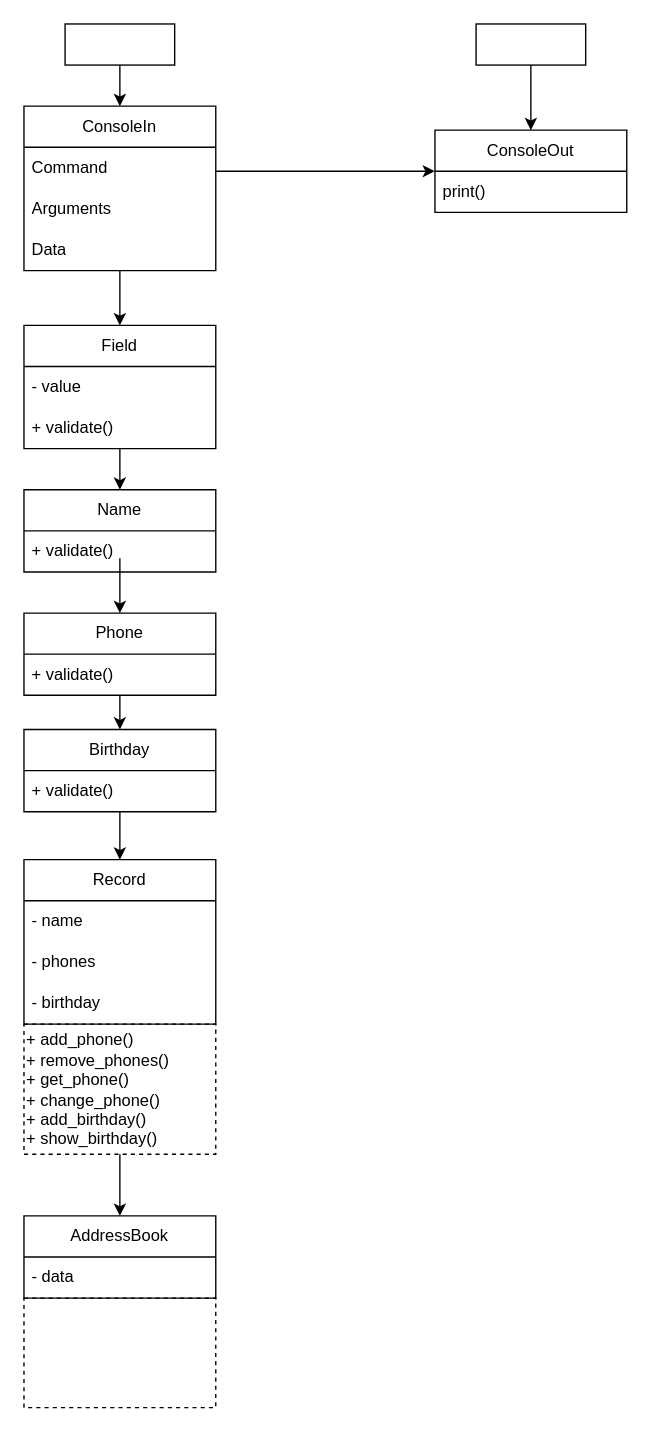
Some shapes in this 651 by 1432 pixel diagram are drawn without their labels. The centre of each missing label's shape, as x and y in pixels:
"+ add_record() + find() + delete() + get_upcoming birthdays()" belongs at pixel 119 1352.
"Output" belongs at pixel 530 44.
"User Input" belongs at pixel 119 44.
